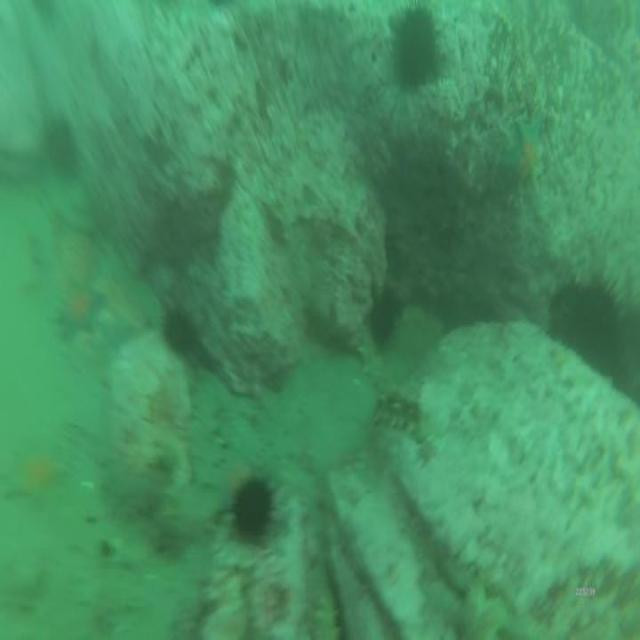echinus: (573, 283, 623, 368), (398, 10, 438, 89), (233, 479, 272, 540), (165, 300, 198, 360), (44, 122, 74, 174)
holothurian: (373, 384, 431, 446), (314, 594, 338, 640)
scallop: (104, 537, 133, 563), (82, 477, 96, 498)
starfish: (507, 112, 545, 191), (61, 282, 97, 334), (22, 450, 59, 498)
